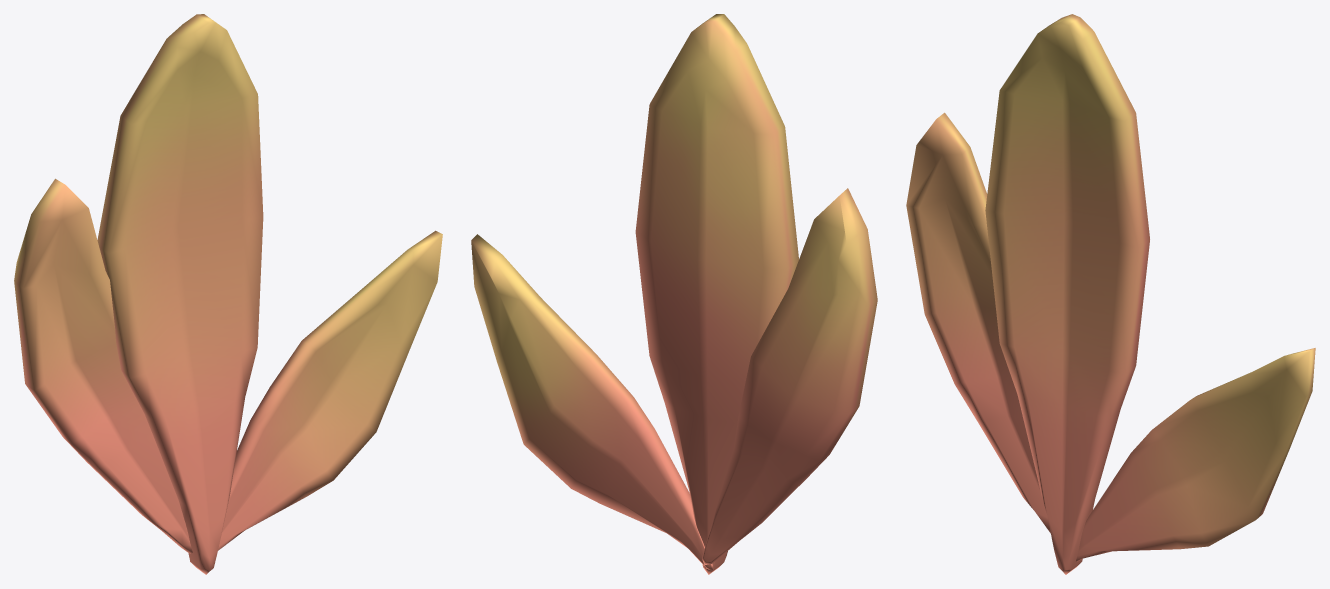
File: Plant7_Textured.fbx
The picture shows the model from 3 angles, left to right: view 1: azimuth 30°, elevation 25°; view 2: azimuth 150°, elevation 25°; view 3: azimuth 330°, elevation 25°; orthographic projection.
Parts seen in each view (by area): view 1: Plant7_Textured; view 2: Plant7_Textured; view 3: Plant7_Textured.
Boxes of the visible parts, <box> form: Plant7_Textured: <box>14,14,442,574</box>; Plant7_Textured: <box>471,14,877,574</box>; Plant7_Textured: <box>906,14,1315,574</box>.
Size of the model in its own units: 32.62 by 42.05 by 5.31.
Materials: 1 (1 with a texture image).
